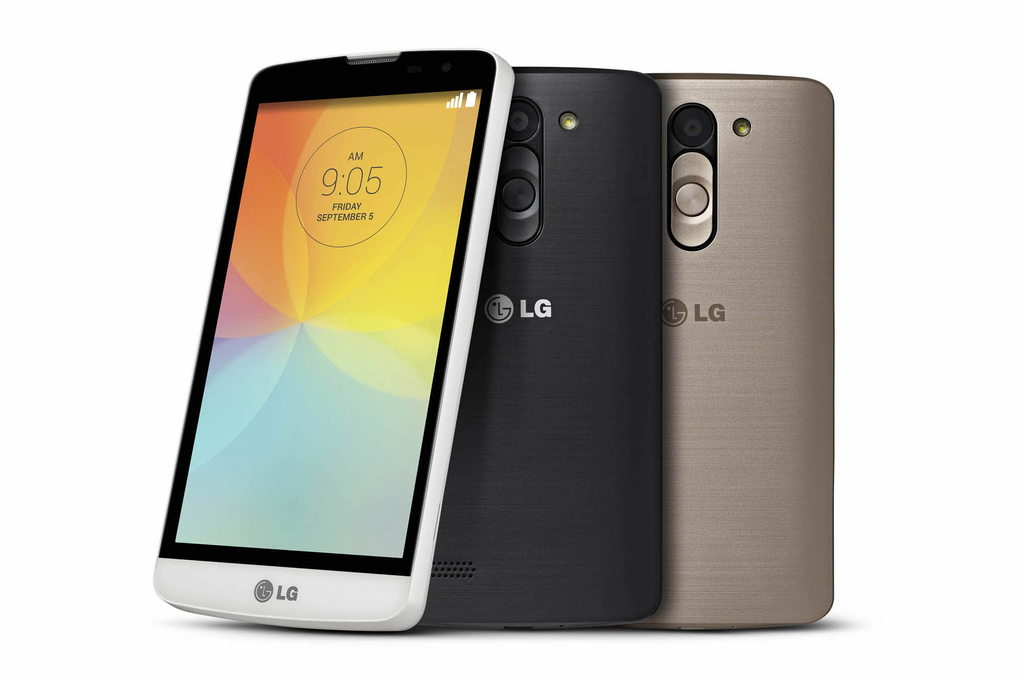Mobile-phone: (161, 37, 516, 635), (399, 64, 681, 633), (600, 70, 832, 624)
